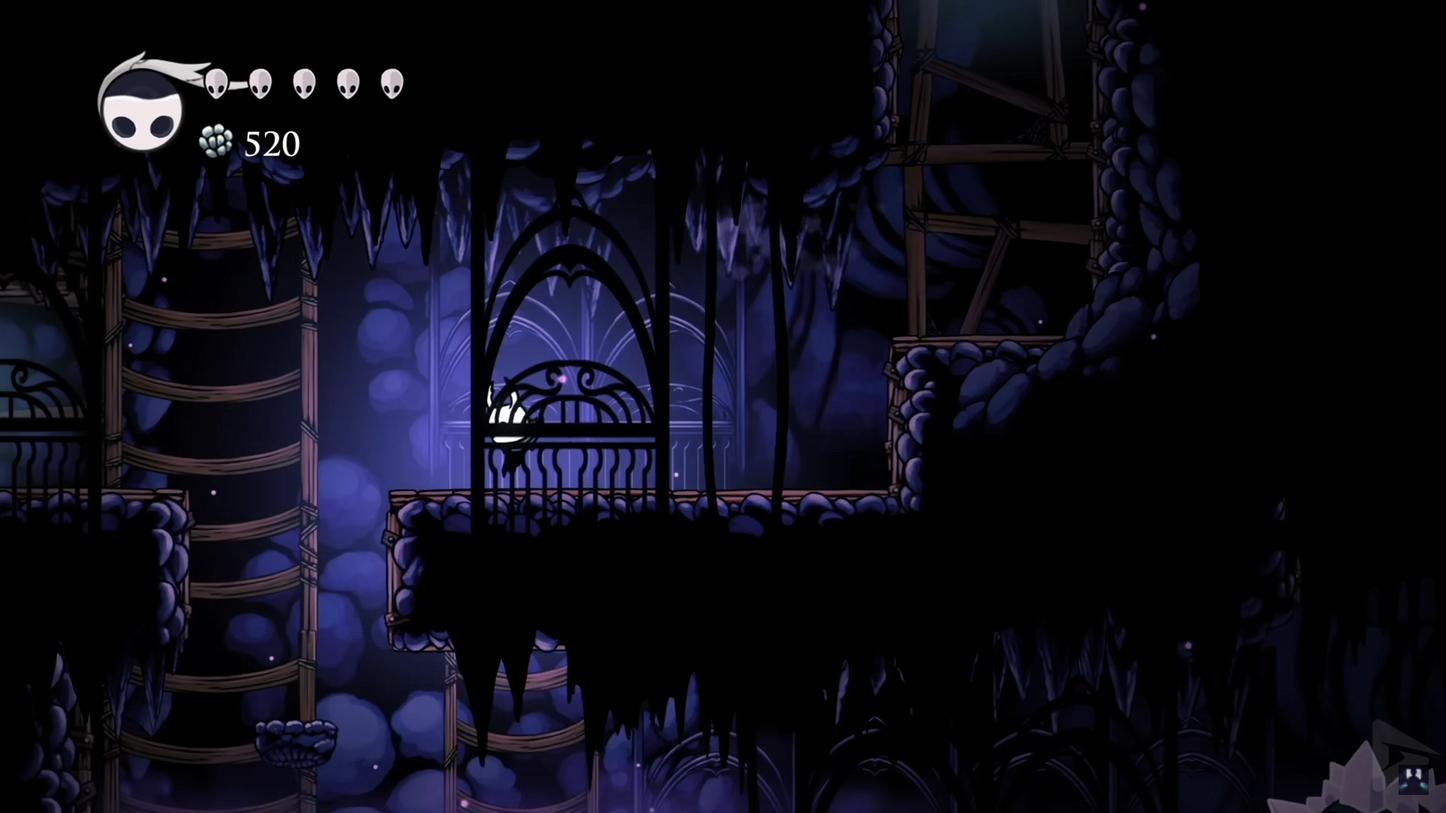HK: (472, 371, 546, 484)
